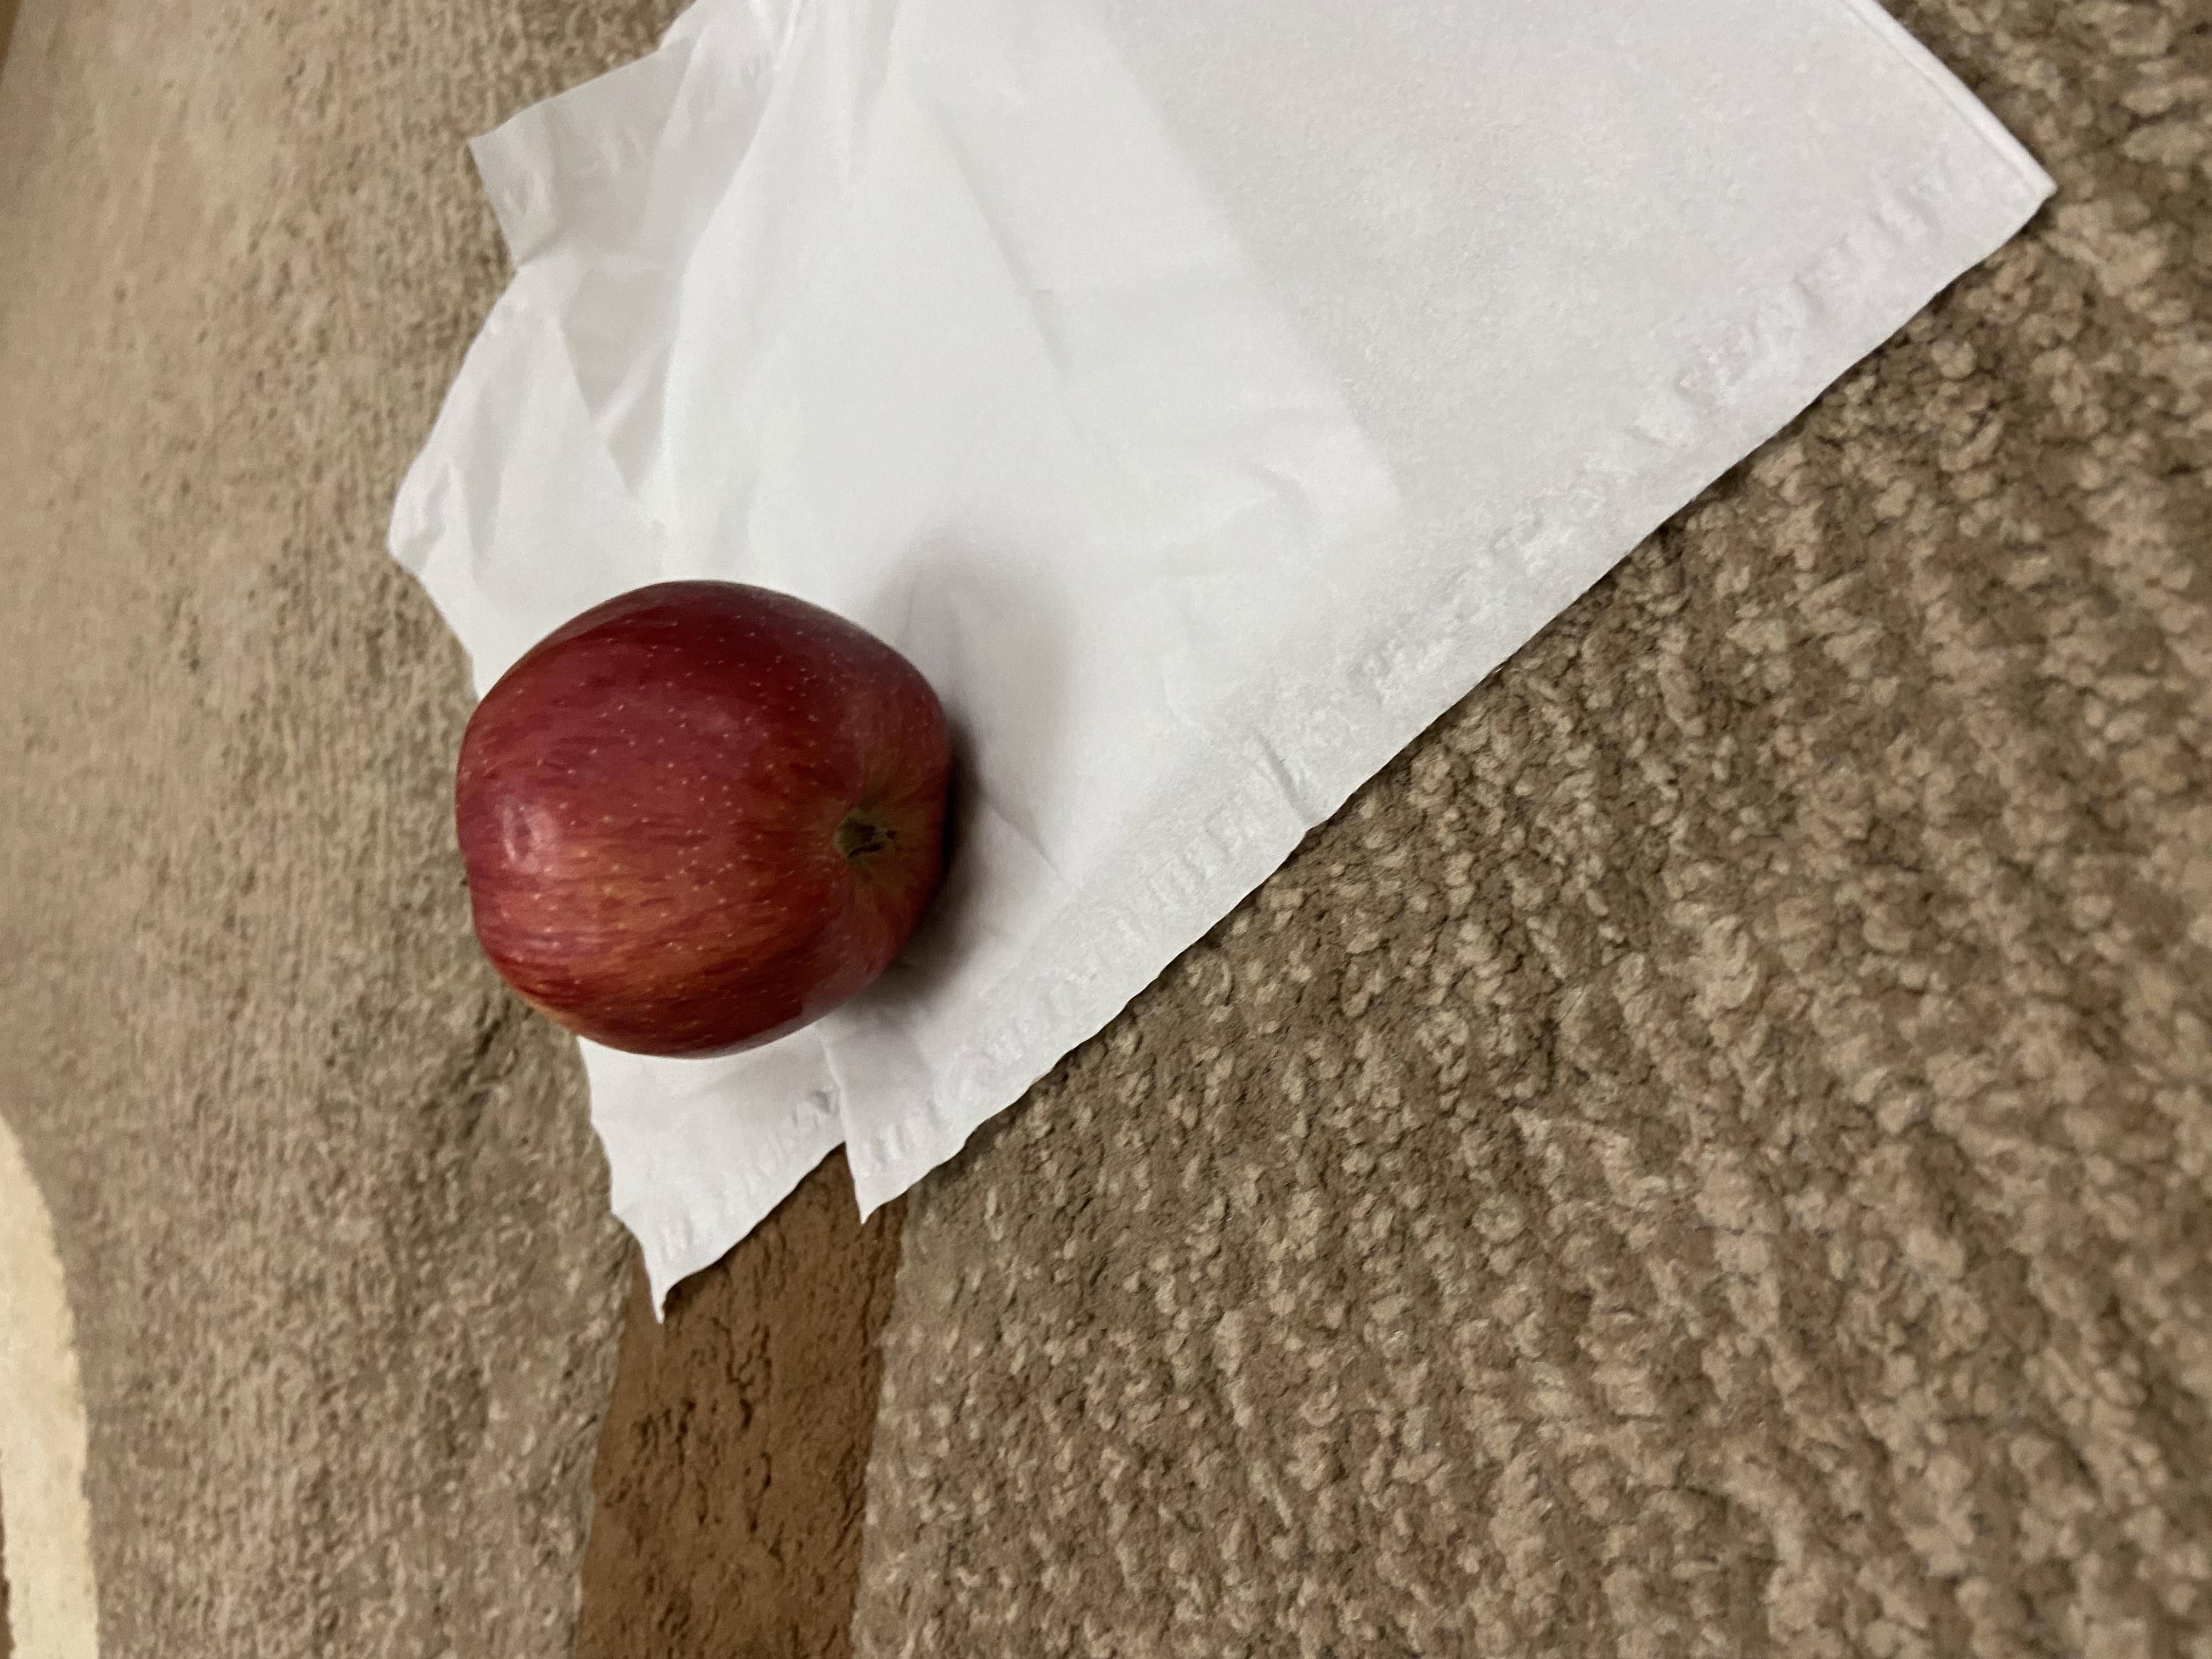Apple: (792, 333, 1442, 725)
